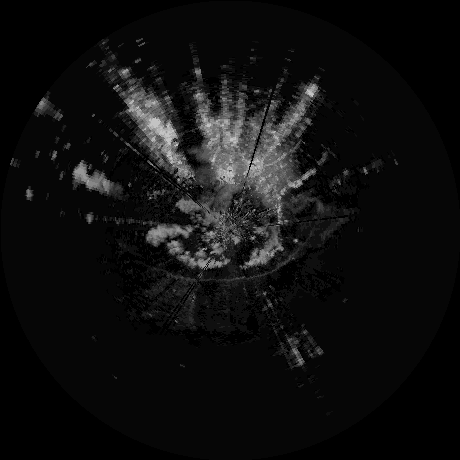frontgust: (153, 231, 314, 284)
